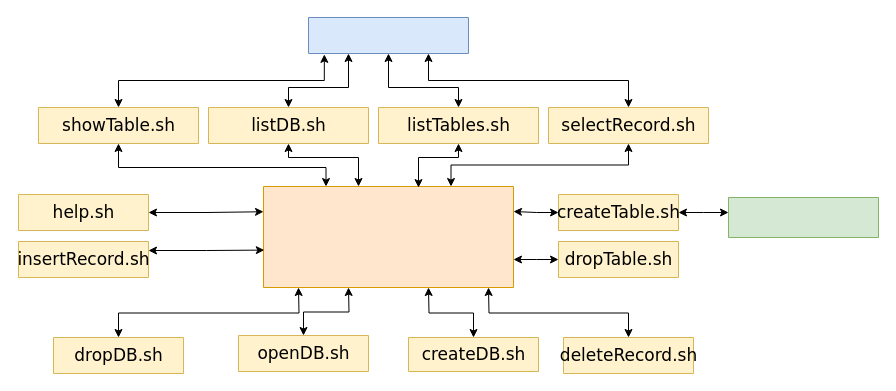
Some shapes in this 896 by 391 pixel diagram are drawn without their labels. The shapes that lost their labels are listed below. From the top down, each one's centre as x and y in pixels, then its label:
At point (388, 35): "printTable.sh".
At point (388, 237): "octopus.sh".
At point (803, 217): "insertColumns.sh".
